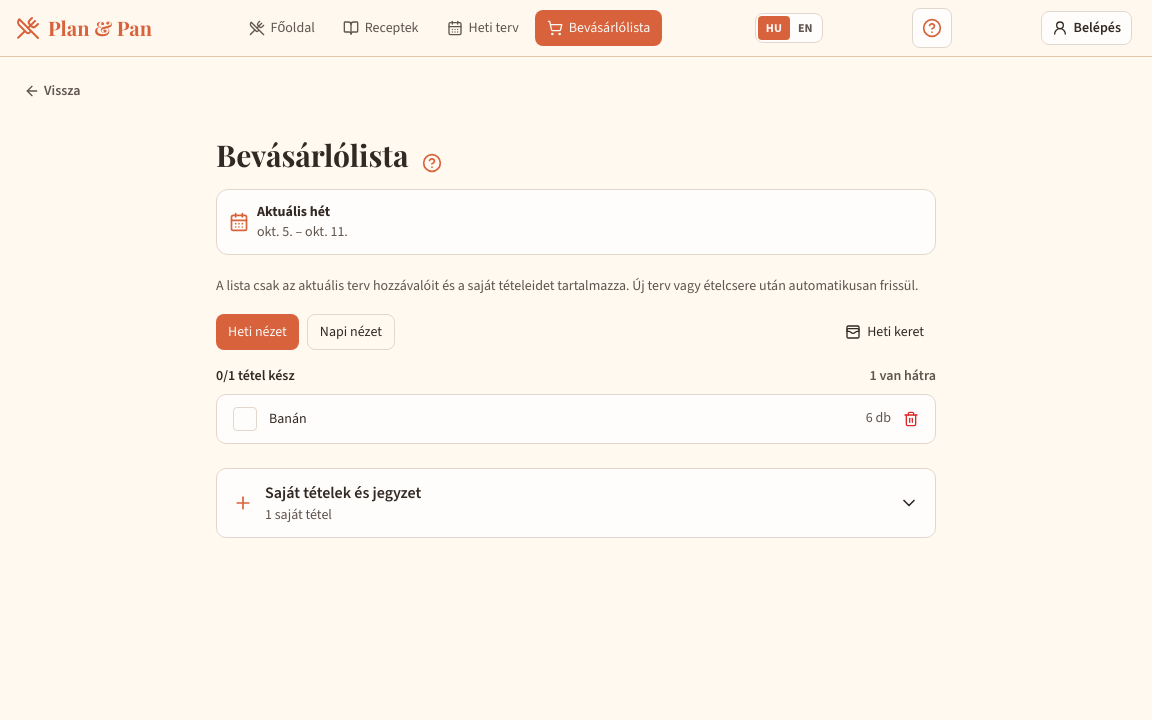
Test: shopping list mobile simplicity › shows the list first and keeps optional personal tools collapsed
The width and height of the screenshot is (1152, 720).
Expected: the text "Banán" is shown, [269, 409, 307, 428]
Expected: the text "0/1 tétel kész" is shown, [216, 366, 295, 386]
Click the button "Saját tételek és jegyzet 1 saját tétel". click: [343, 492]
box: [217, 469, 935, 537]
(page scrolled)
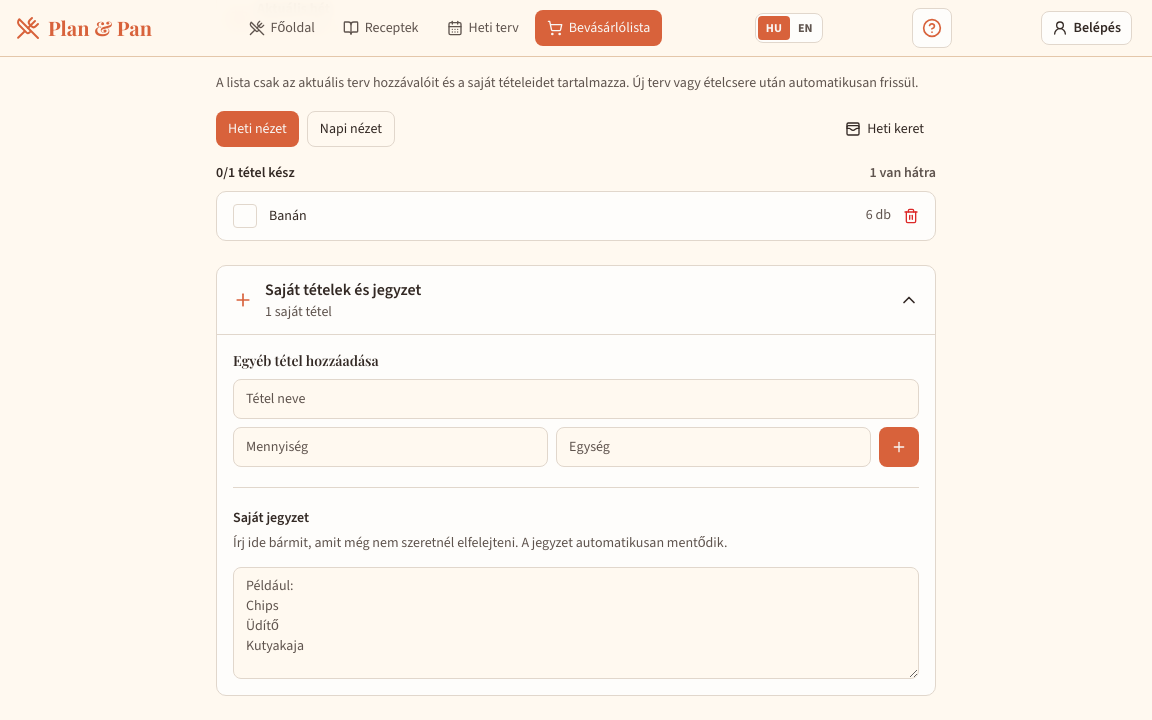
Expected: the button "Saját tételek és jegyzet 1 saját tétel" is expanded, [217, 266, 935, 334]
Expected: the heading "Egyéb tétel hozzáadása" is shown, [233, 351, 379, 370]
Expected: the text box labelled "Saját jegyzet" is shown, [233, 566, 919, 678]
